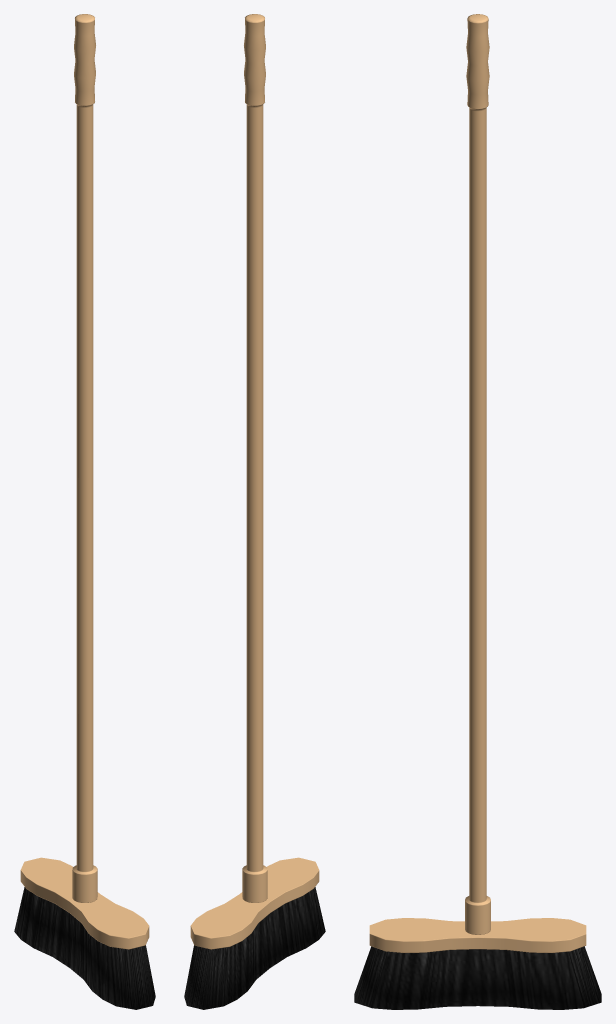
File: broom.glb
3 views of the same model, side by side, from view 1: azimuth 30°, elevation 25°; view 2: azimuth 150°, elevation 25°; view 3: azimuth 270°, elevation 25° (orthographic). The views are drawn at different scales.
Visible parts, largest first — view 1: Cylinder, Cube.001, Cube.002; view 2: Cylinder, Cube.001, Cube.002; view 3: Cylinder, Cube.001, Cube.002.
Boxes of the visible parts, x1,y1,x2,y2 form: Cylinder: (72,14,97,902); Cube.001: (14,887,155,1009); Cube.002: (20,857,149,949); Cylinder: (242,14,267,902); Cube.001: (184,887,325,1009); Cube.002: (190,857,319,949); Cylinder: (465,14,490,934); Cube.001: (354,946,601,1009); Cube.002: (369,918,586,952).
Bounding box in the file's own units: 0.0815 × 1.6 × 0.3657.
Materials: 2 (1 with a texture image).
